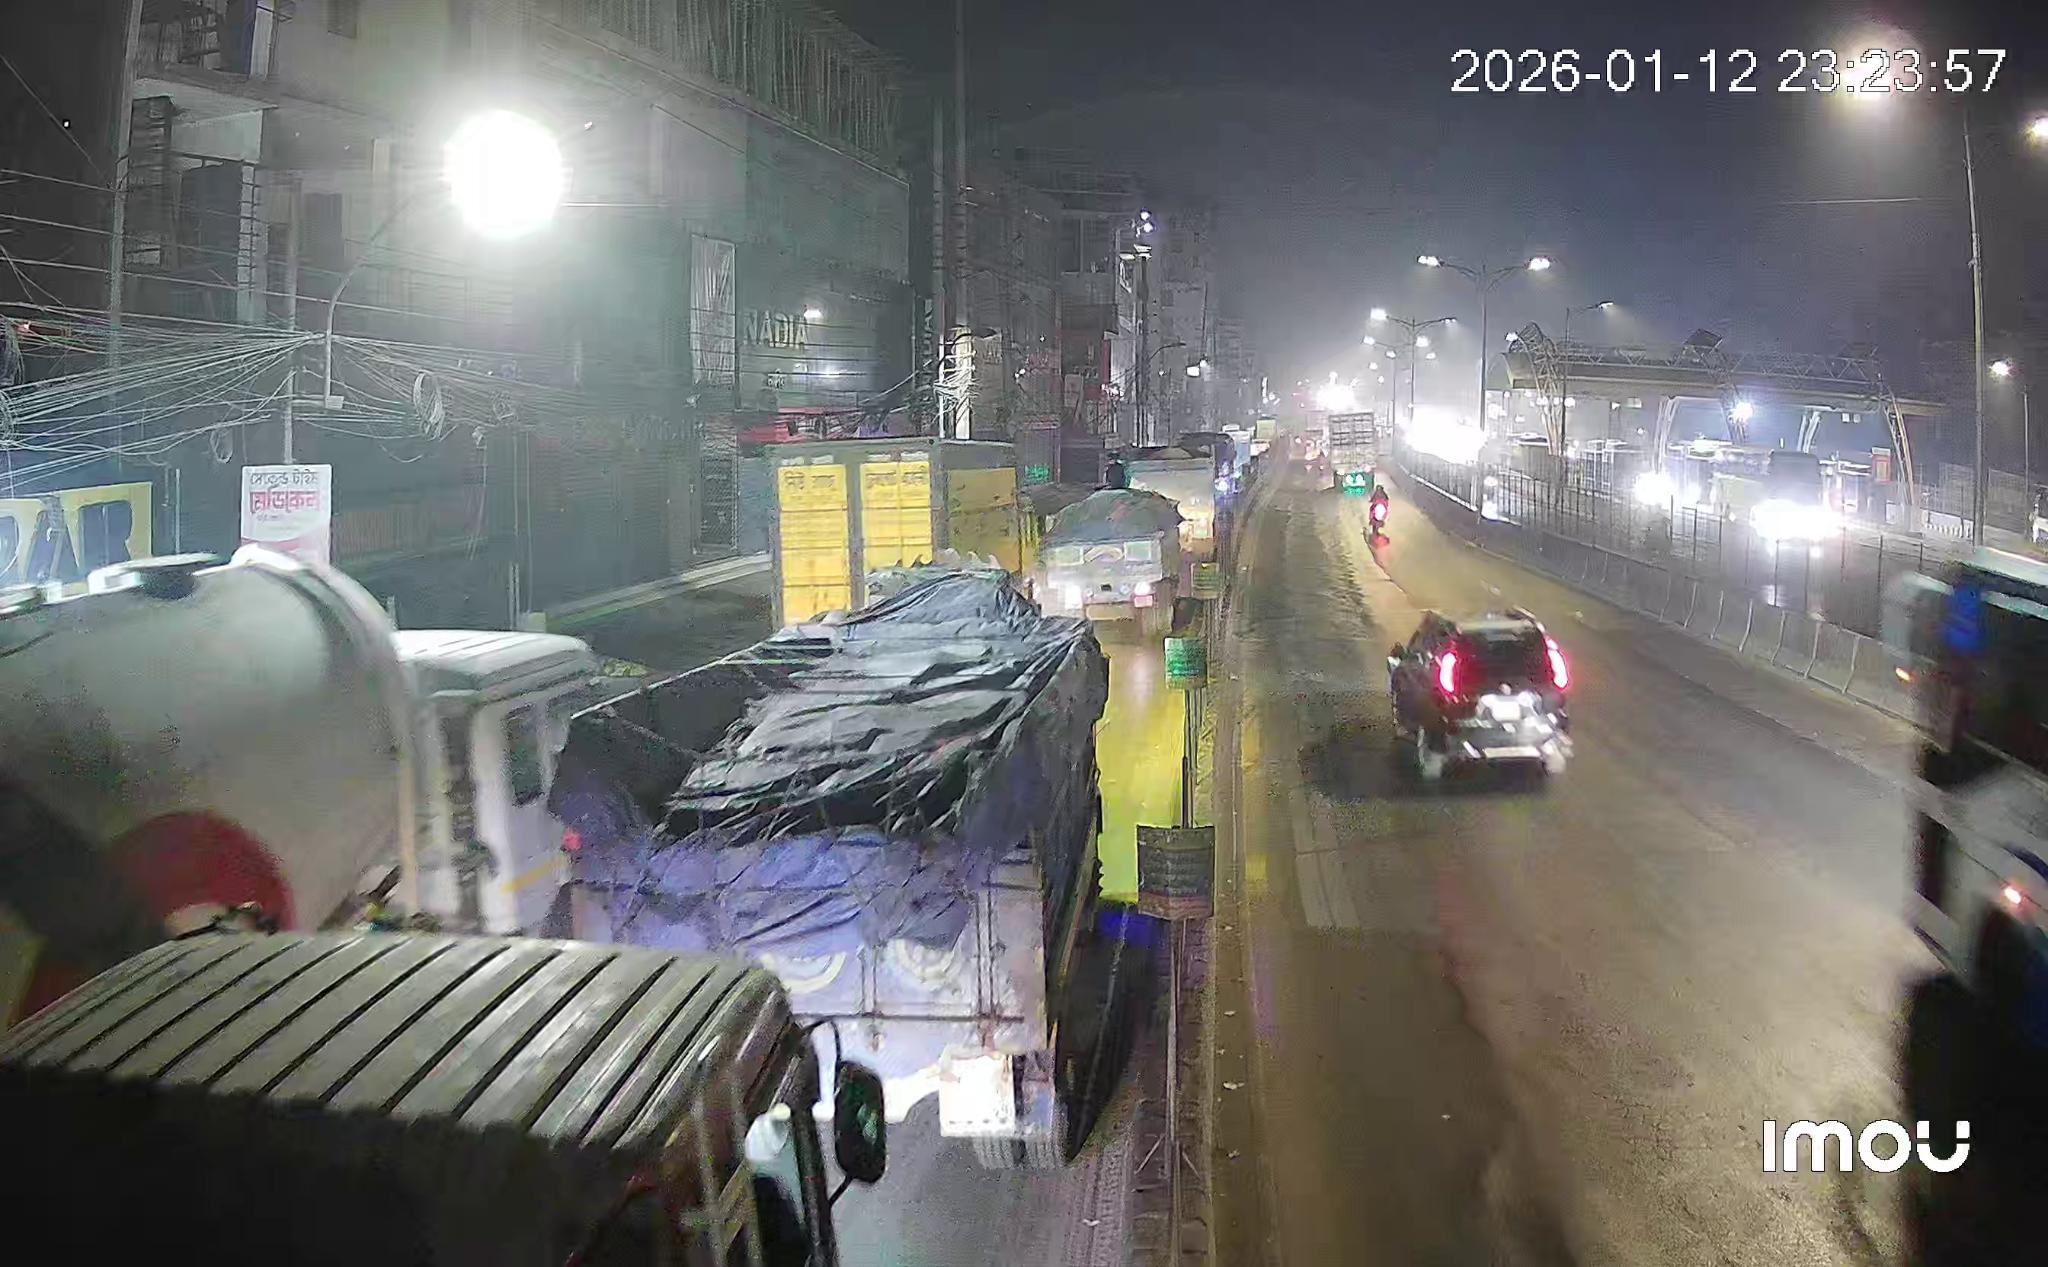Jeep-SUV: (1385, 607, 1573, 780)
Motorcycle: (1369, 486, 1390, 530)
Truck: (550, 556, 1110, 1168), (0, 547, 600, 1031), (767, 437, 1027, 625), (1031, 489, 1183, 639), (1328, 411, 1379, 499)
